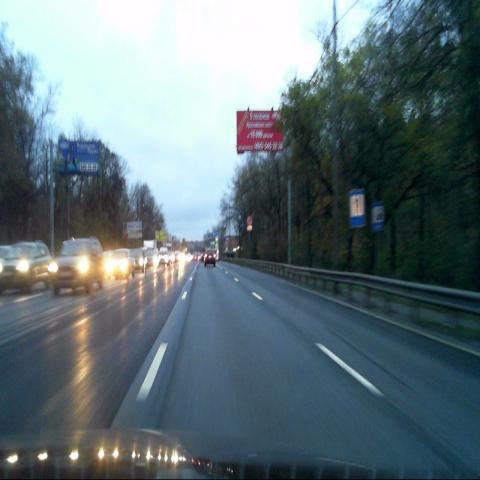7_7: (349, 190, 365, 228)
